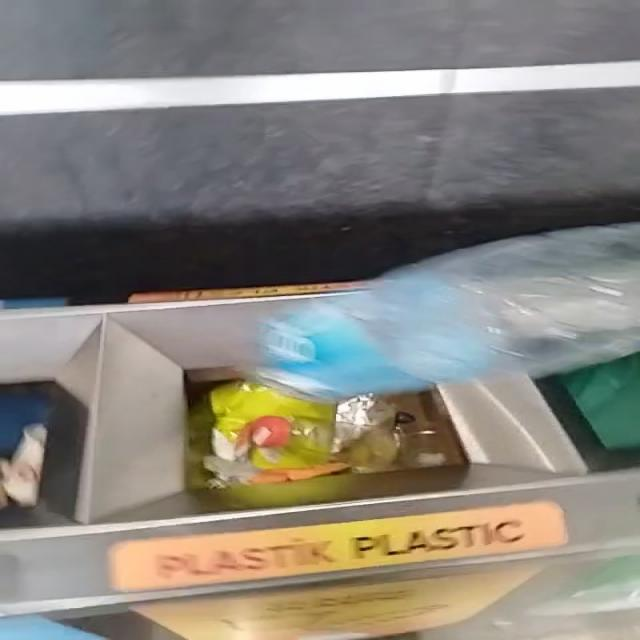Plastic: (255, 224, 640, 400)
